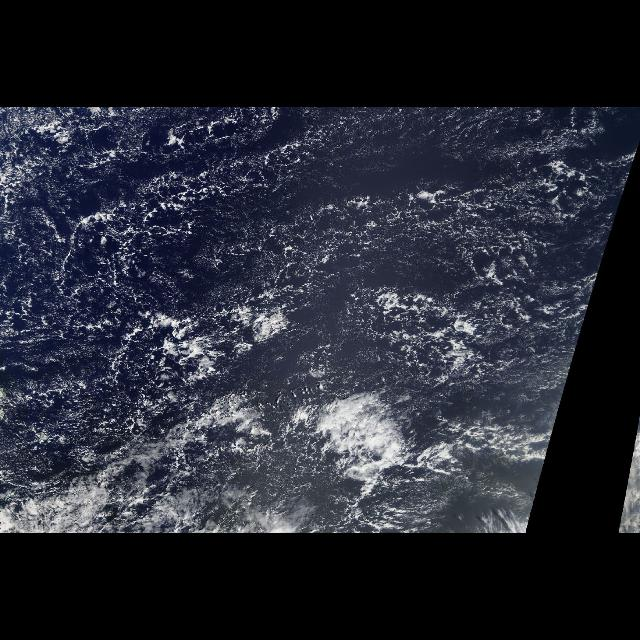Gravel: (3, 110, 613, 524)
Sugar: (323, 107, 565, 285)
